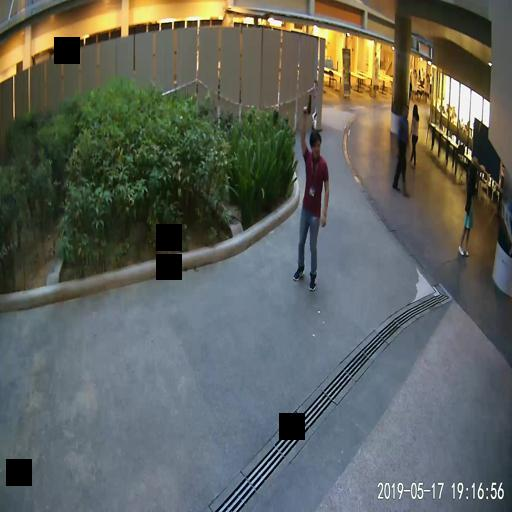Handgun: (302, 92, 311, 113)
